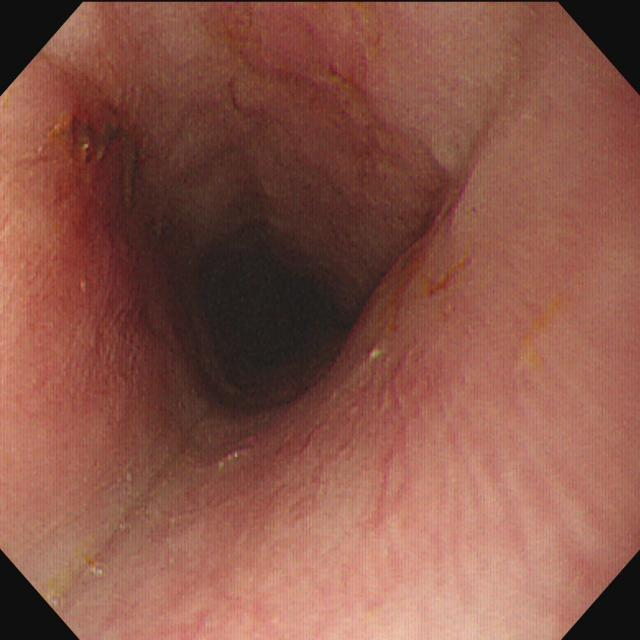E: (145, 175, 386, 418)
J: (38, 106, 147, 217)
